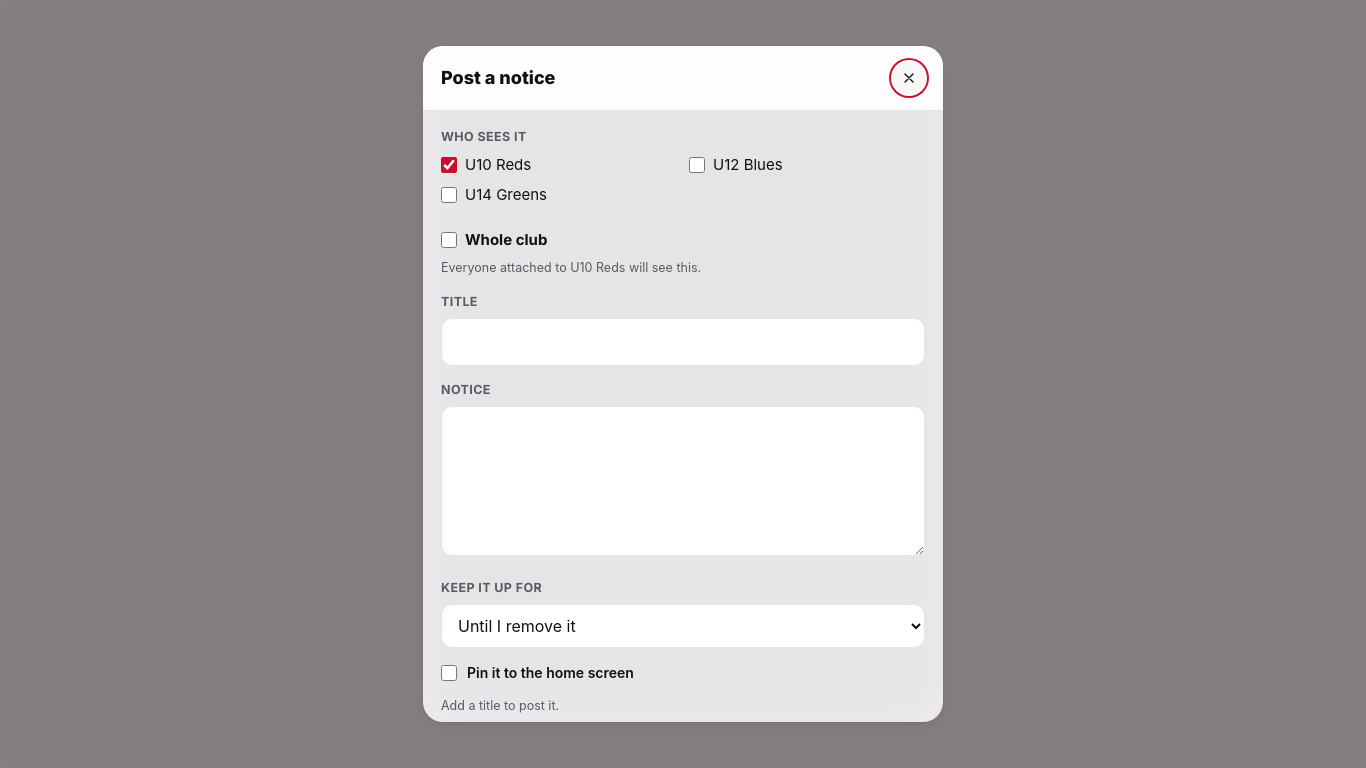
Test: who a notice is sent to › gives the squad ticks back when the whole club is turned off again
Click the checkbox labelled "U12 Blues" at [697, 165], box top-left (689, 157), bottom-right (705, 173)
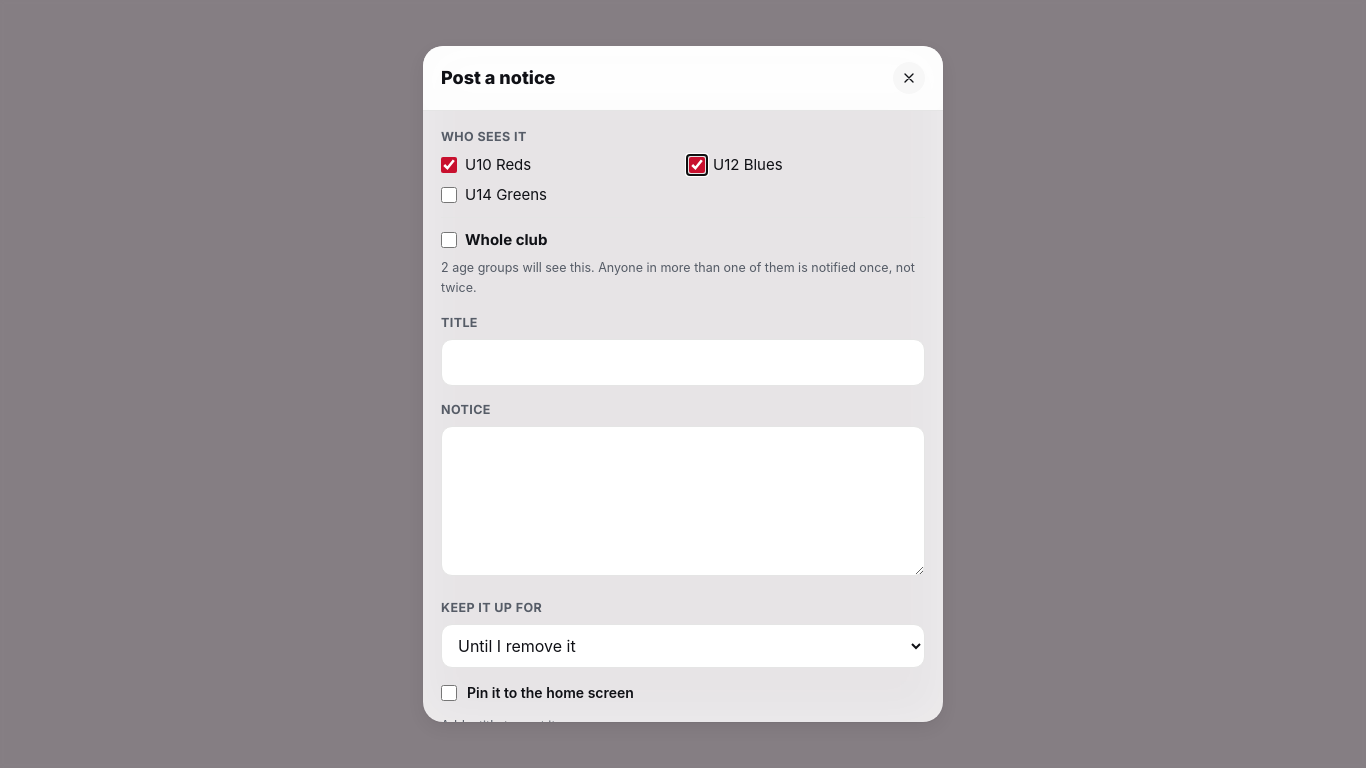
Click the checkbox labelled "Whole club" at [449, 240], box top-left (441, 232), bottom-right (457, 248)
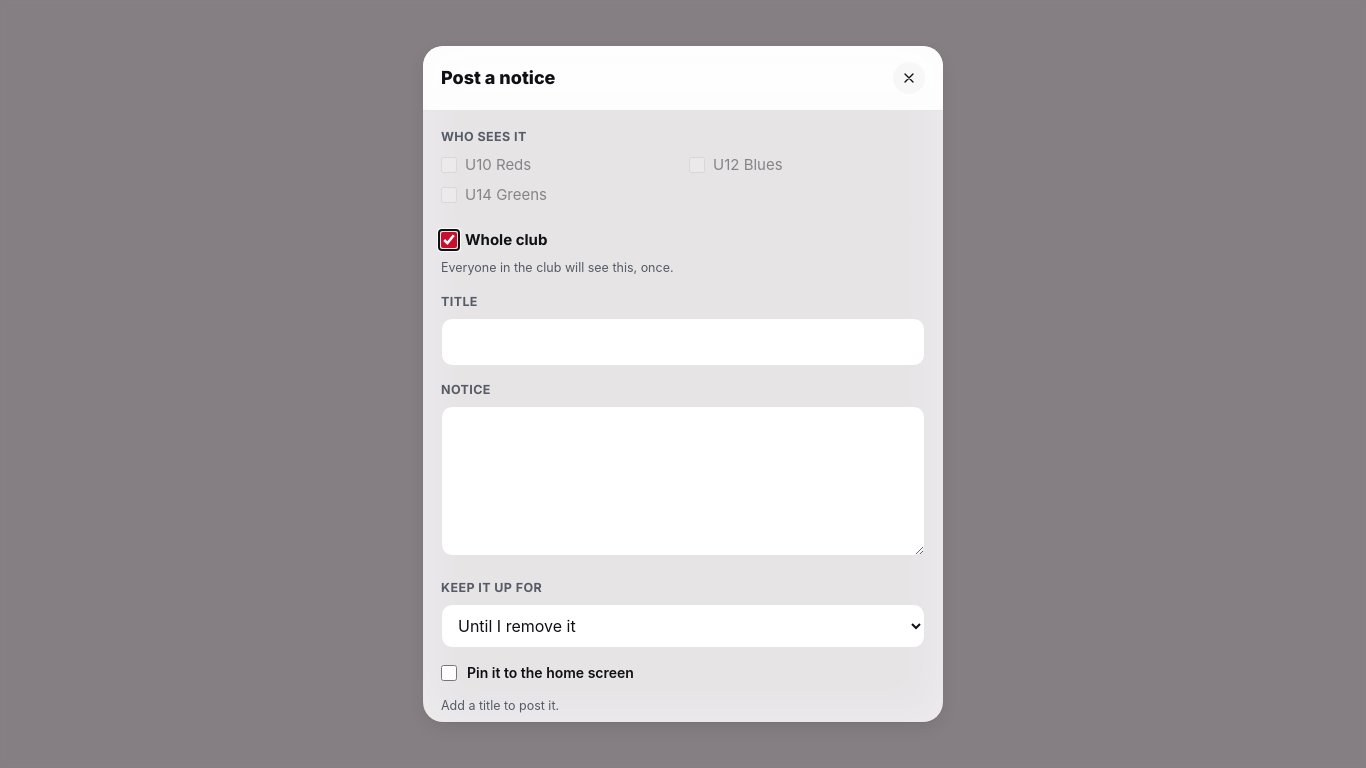
Click the checkbox labelled "Whole club" at [449, 240], box top-left (441, 232), bottom-right (457, 248)
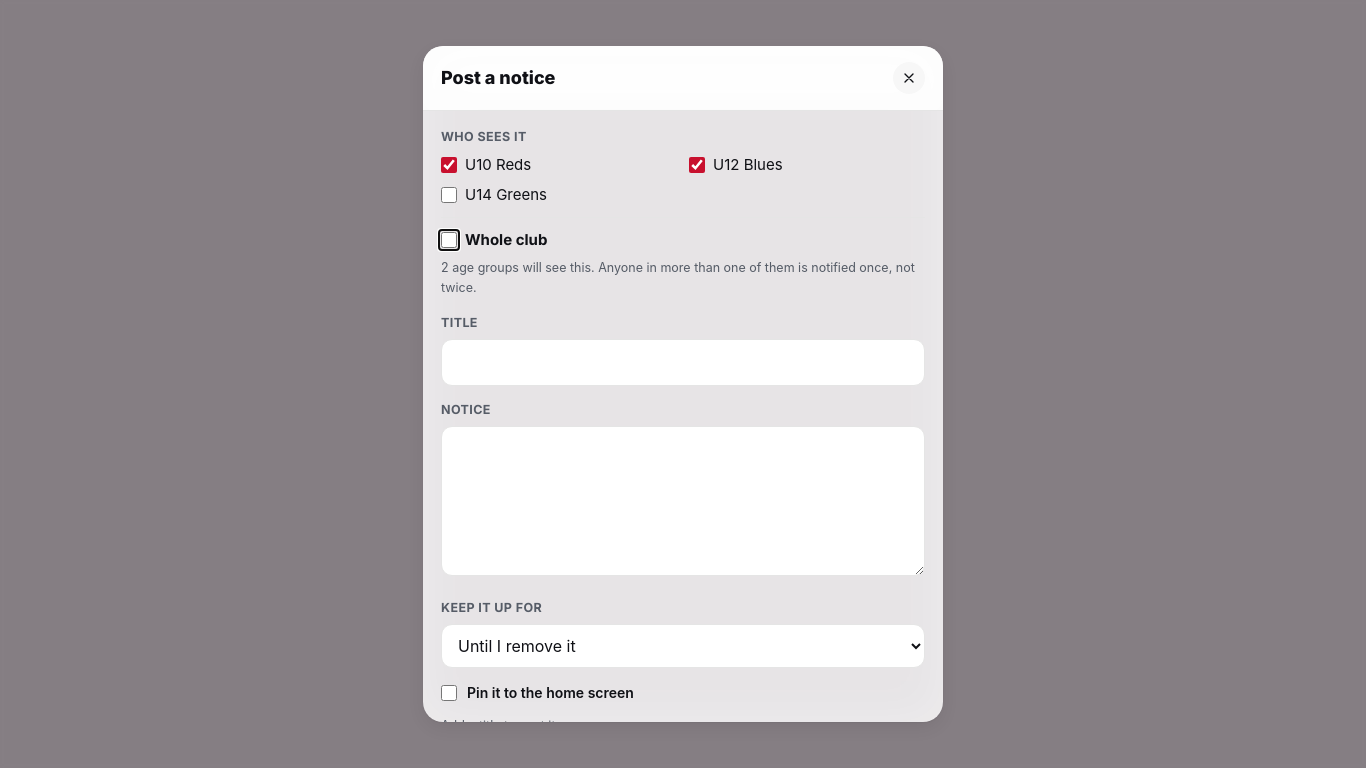
Expected: the checkbox labelled "U14 Greens" is not checked, top-left (441, 187), bottom-right (457, 203)
Result: the checkbox labelled "U12 Blues" is checked at top-left (689, 157), bottom-right (705, 173)
Result: the checkbox labelled "U10 Reds" is checked at top-left (441, 157), bottom-right (457, 173)
